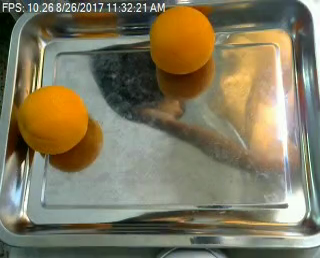Orange: (15, 85, 88, 152), (148, 7, 215, 74)
